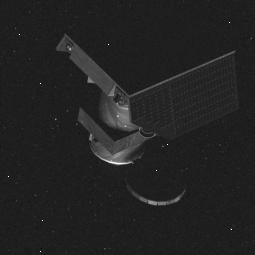cheops: (51, 29, 242, 206)
